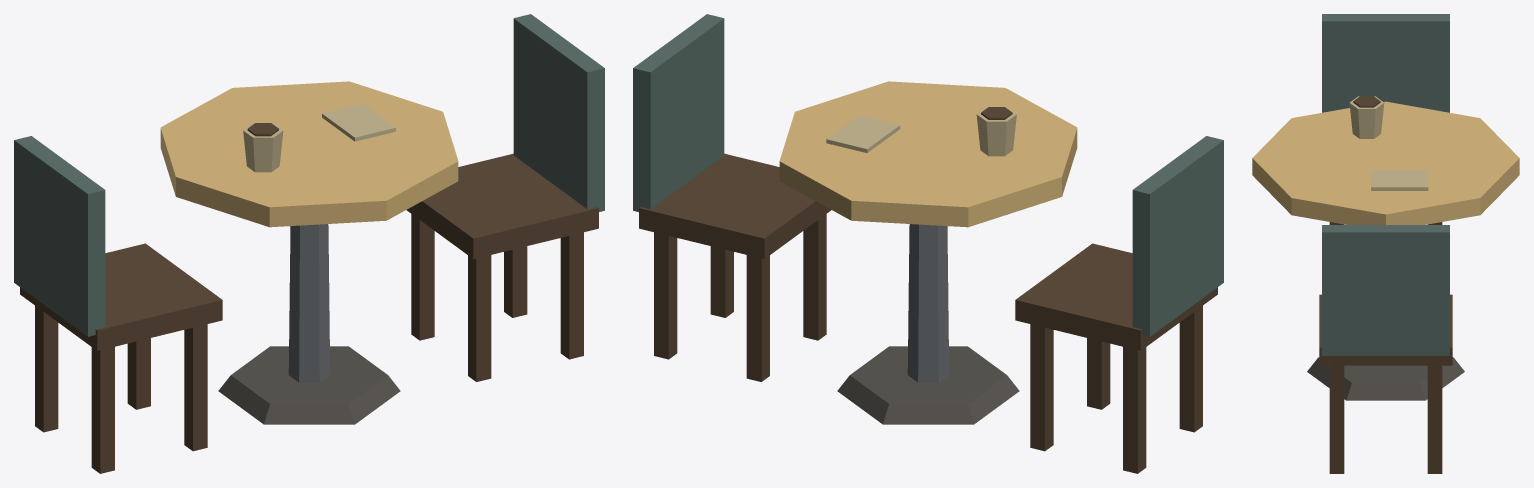
File: prop-cafe-table.glb
3 renders of one model, left to right at view 1: azimuth 30°, elevation 25°; view 2: azimuth 150°, elevation 25°; view 3: azimuth 270°, elevation 25°, orthographic. The views are drawn at different scales.
Visible parts, largest first — view 1: cafe_table; view 2: cafe_table; view 3: cafe_table.
Part boxes in pixels (x1,y1,x2,y2): cafe_table: (14,14,604,473); cafe_table: (633,14,1223,473); cafe_table: (1252,14,1519,473).
Bounding box in the file's own units: 0.948 × 0.503 × 0.49.
